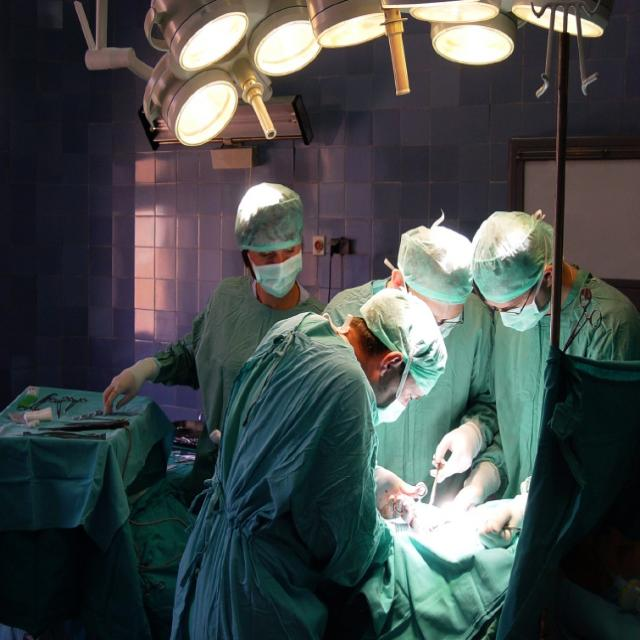body: (165, 286, 450, 639), (100, 179, 330, 490), (451, 206, 640, 552), (318, 222, 498, 509)
